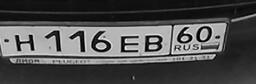license-plateSW: (1, 25, 229, 57)
